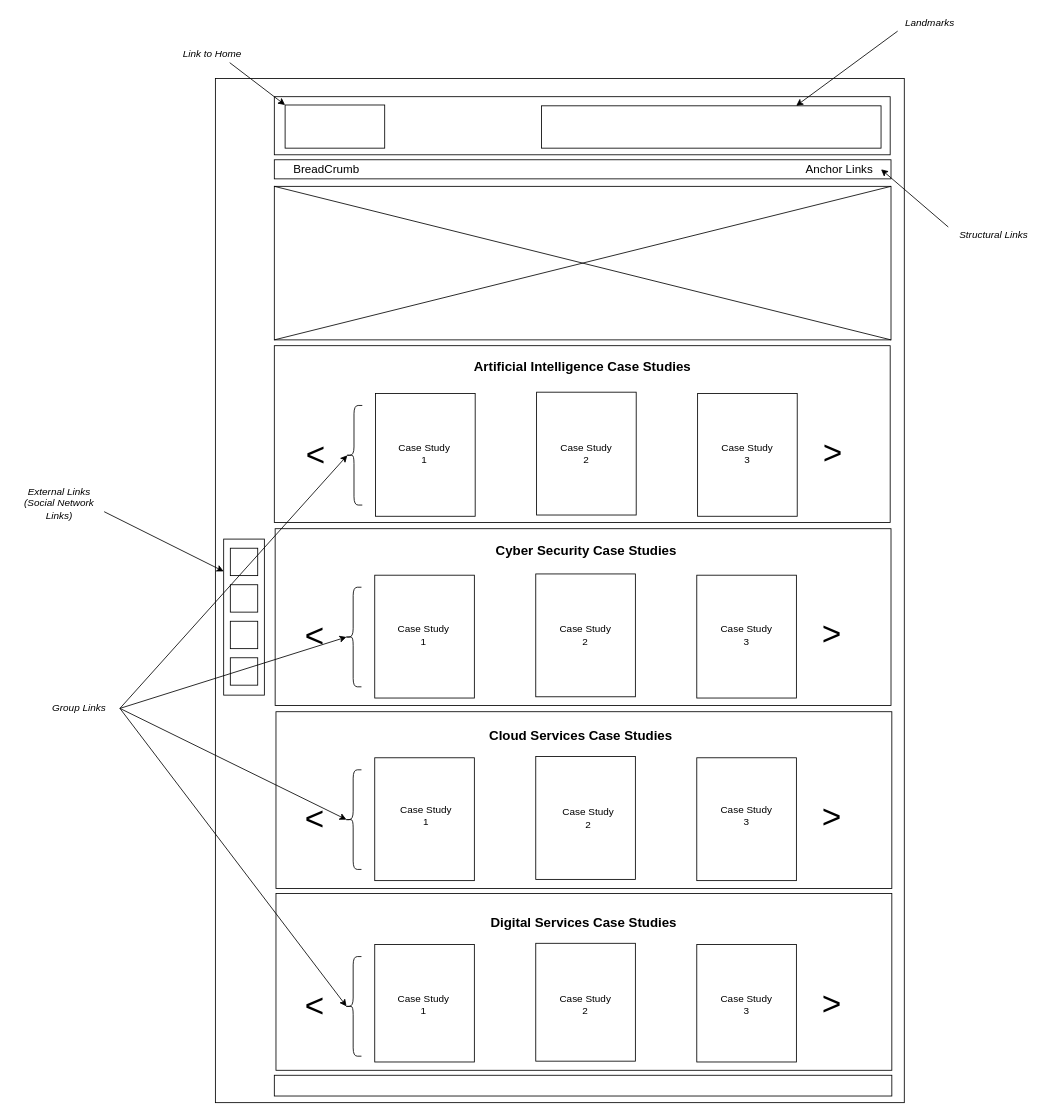
The diagram is 1053 pixels wide and 1117 high, and some of its shapes have lost their labels. Each missing label, with the centre of its shape:
"About Us Areas Services Industries Our Team Contact Us" belongs at point (711, 126).
"CASE STUDIES" belongs at point (582, 263).
"Footer" belongs at point (582, 1085).
"LOGO" belongs at point (334, 126).
